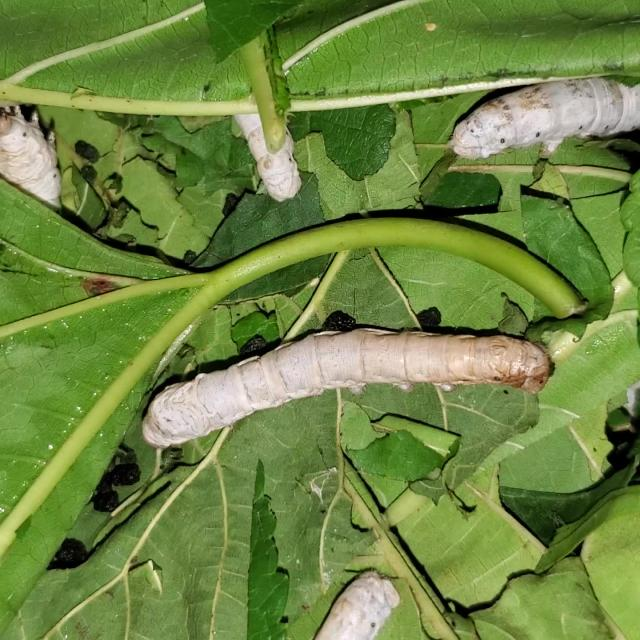Grasserie: (135, 298, 558, 450)
